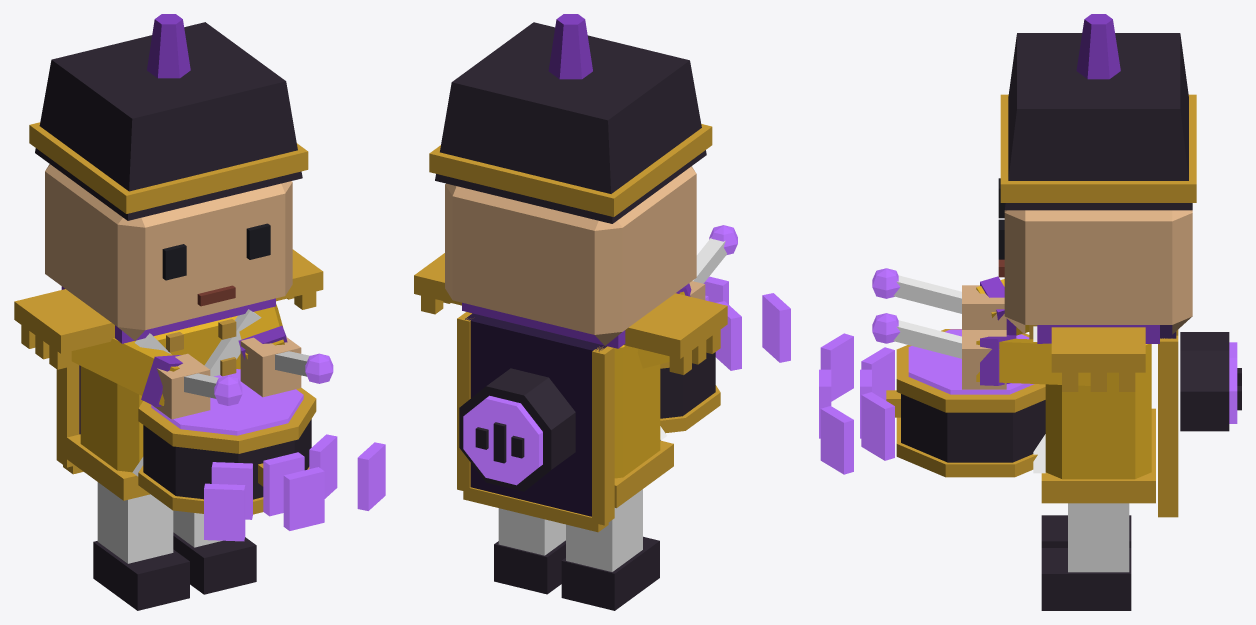
File: drummer_rare.glb
3 renders of one model, left to right at view 1: azimuth 30°, elevation 25°; view 2: azimuth 150°, elevation 25°; view 3: azimuth 270°, elevation 25°, orthographic.
Visible parts, largest first — view 1: drummer_rare_mesh; view 2: drummer_rare_mesh; view 3: drummer_rare_mesh.
Boxes of the visible parts, bbox=[...] form: drummer_rare_mesh: bbox=[14, 14, 385, 610]; drummer_rare_mesh: bbox=[414, 14, 790, 610]; drummer_rare_mesh: bbox=[819, 14, 1241, 610].
Size of the model in its own units: 0.6414 by 1.3 by 0.8861.
Materials: 2 (2 with a texture image).
